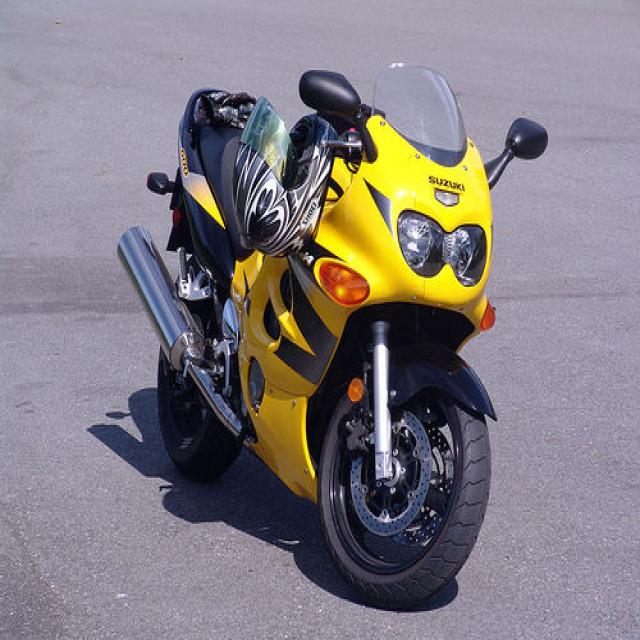motorbike: (114, 54, 552, 614)
